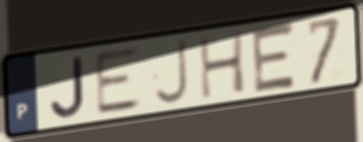7: (307, 14, 343, 86)
E: (92, 43, 145, 118), (249, 19, 299, 96)
H: (196, 29, 248, 102)
J: (47, 53, 88, 121), (152, 36, 191, 107)
